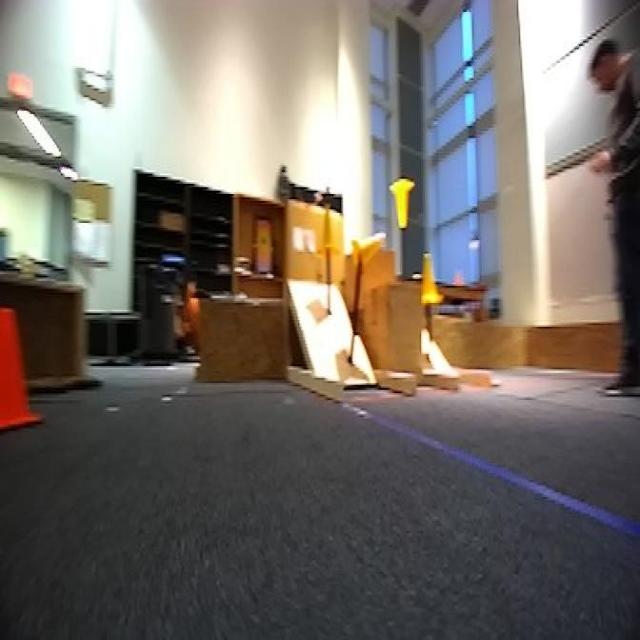frc_cone: (348, 226, 384, 274), (389, 177, 415, 230), (318, 209, 341, 257), (420, 255, 440, 308)
